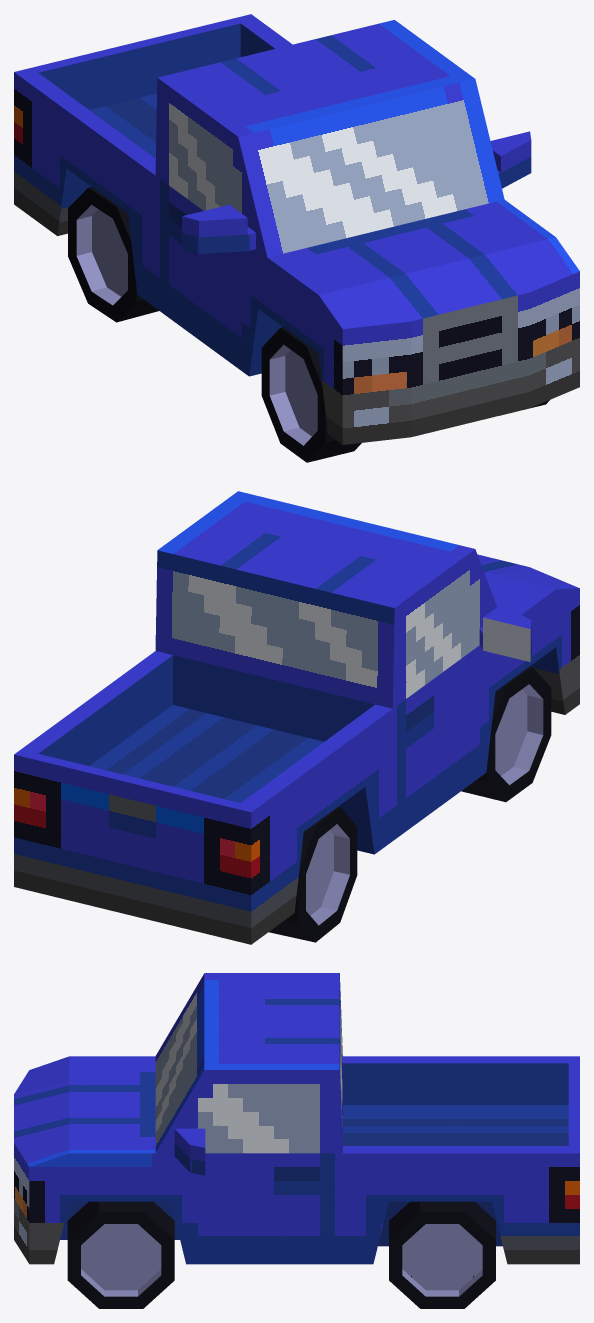
Rendered from pickup_truck.glb.
3 renders of one model, top to bottom at view 1: azimuth 30°, elevation 25°; view 2: azimuth 150°, elevation 25°; view 3: azimuth 270°, elevation 25°, orthographic. The views are drawn at different scales.
Visible parts, largest first — view 1: body_0, cylinder_8, cylinder_6, mirror_right_2, mirror_left_1; view 2: body_0, cylinder_6, cylinder_8, mirror_right_2; view 3: body_0, cylinder_4, cylinder_10, mirror_left_1.
Boxes of the visible parts, x1,y1,x2,y2 form: body_0: [14, 14, 579, 444]; cylinder_8: [68, 187, 158, 322]; cylinder_6: [261, 327, 361, 462]; mirror_right_2: [182, 204, 255, 253]; mirror_left_1: [490, 131, 531, 188]; body_0: [14, 491, 579, 944]; cylinder_6: [461, 666, 551, 802]; cylinder_8: [269, 806, 357, 942]; mirror_right_2: [479, 604, 531, 661]; body_0: [14, 973, 579, 1264]; cylinder_4: [67, 1201, 174, 1308]; cylinder_10: [389, 1201, 495, 1308]; mirror_left_1: [174, 1128, 205, 1175].
Size of the model in its own units: 1.38 by 1.06 by 2.31.
1 material, 1 textured.
